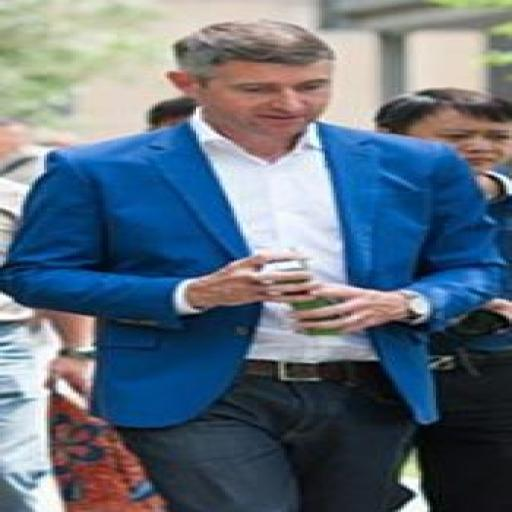person: (0, 21, 503, 511), (375, 89, 511, 318), (0, 294, 61, 511), (0, 118, 46, 184), (147, 96, 196, 130)
